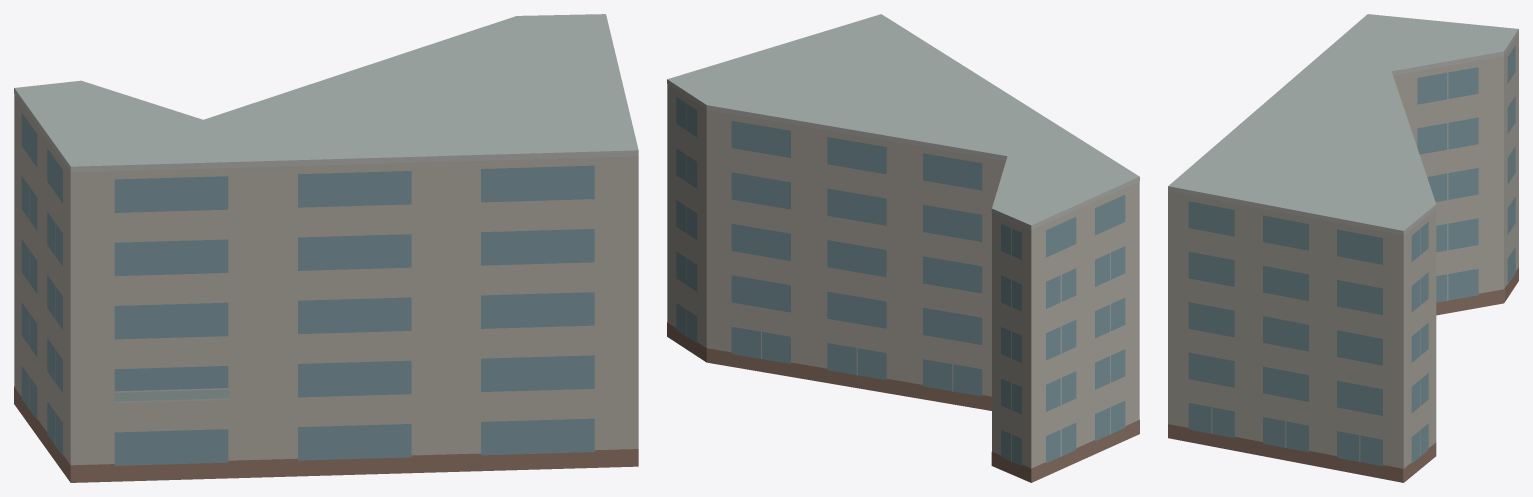
File: survey-upis-32660598.glb
3 renders of one model, left to right at view 1: azimuth 30°, elevation 25°; view 2: azimuth 150°, elevation 25°; view 3: azimuth 270°, elevation 25°, orthographic. The views are drawn at different scales.
Parts seen in each view (by area): view 1: survey-upis-32660598.tmp; view 2: survey-upis-32660598.tmp; view 3: survey-upis-32660598.tmp.
Boxes of the visible parts, bbox=[...] form: survey-upis-32660598.tmp: bbox=[14, 14, 638, 482]; survey-upis-32660598.tmp: bbox=[667, 14, 1139, 482]; survey-upis-32660598.tmp: bbox=[1168, 14, 1518, 482].
Bounding box in the file's own units: 24.56 × 13.3 × 16.79.
